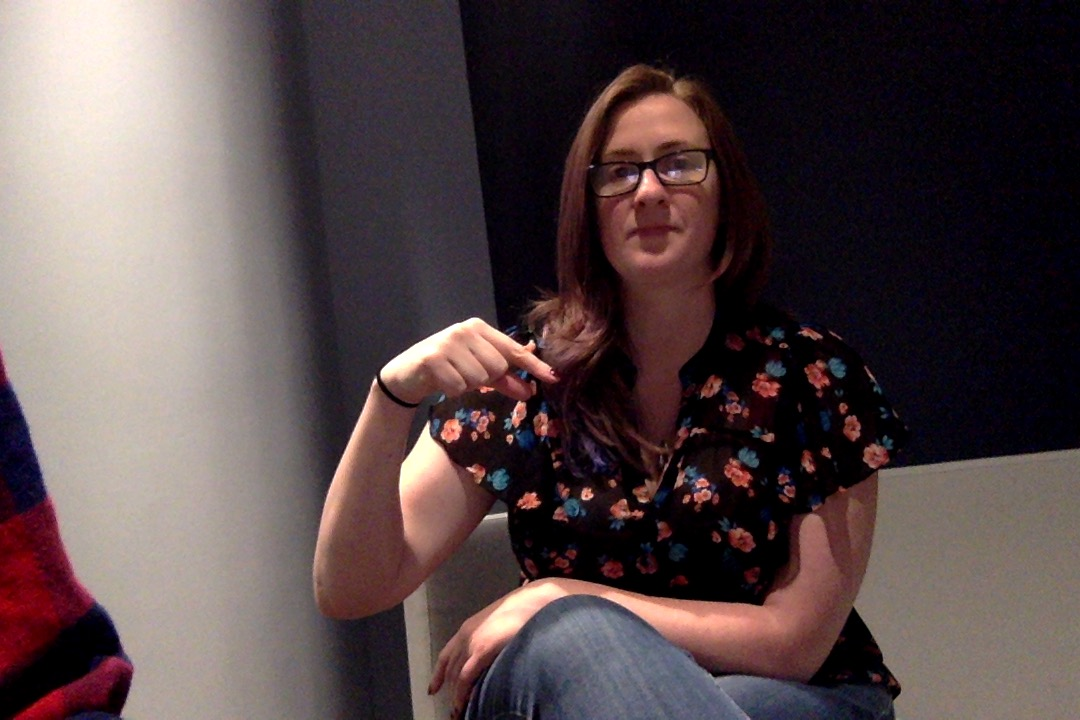q: (364, 308, 559, 456)
